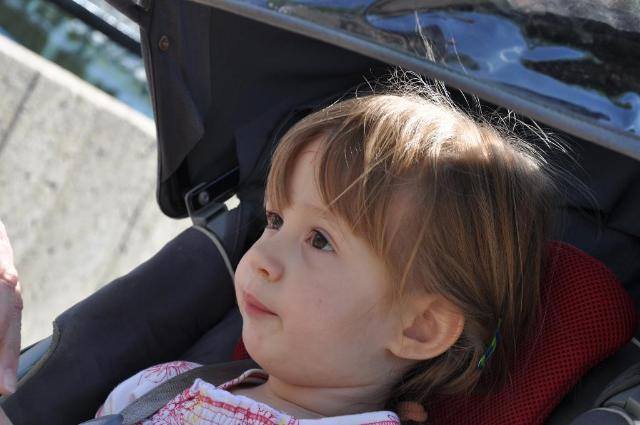SafeDriving: (298, 212, 346, 264)
Seatbelt: (75, 356, 262, 424)
